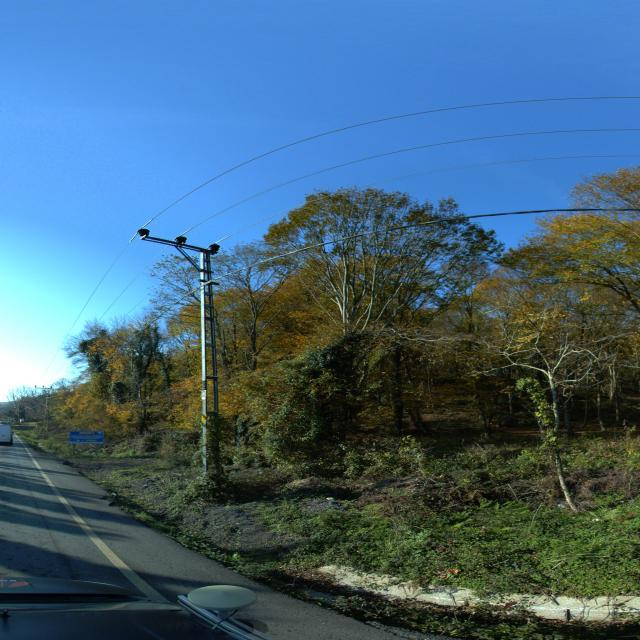Utility Pole Information Plate: (202, 414, 207, 421), (201, 390, 206, 396)
